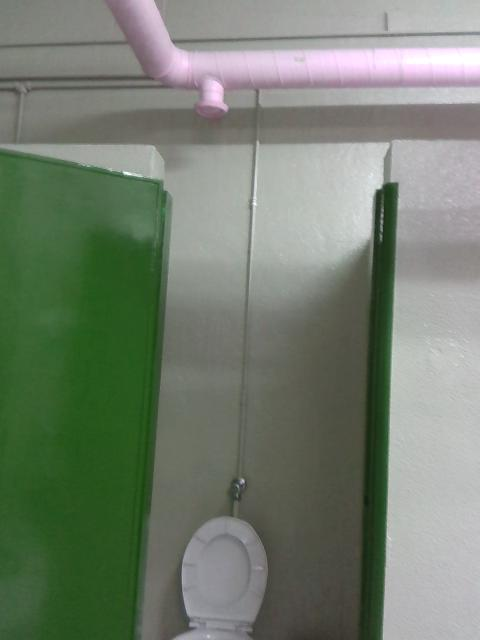open_door: (133, 140, 392, 639)
